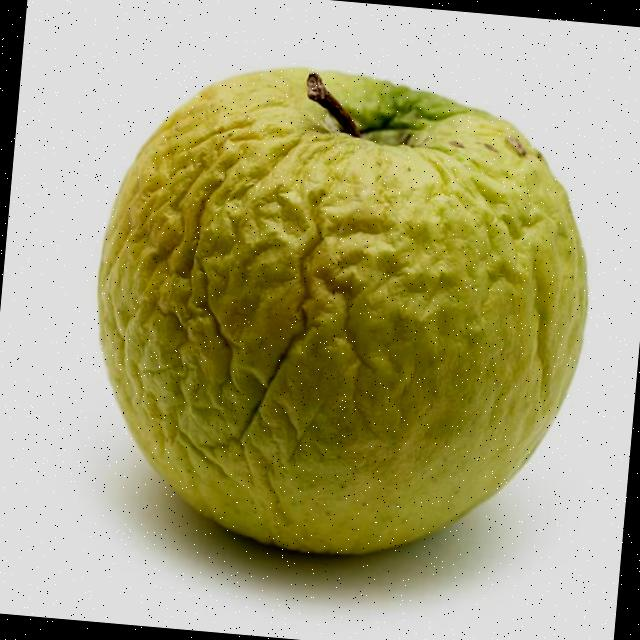rotten apple: (45, 12, 640, 612)
